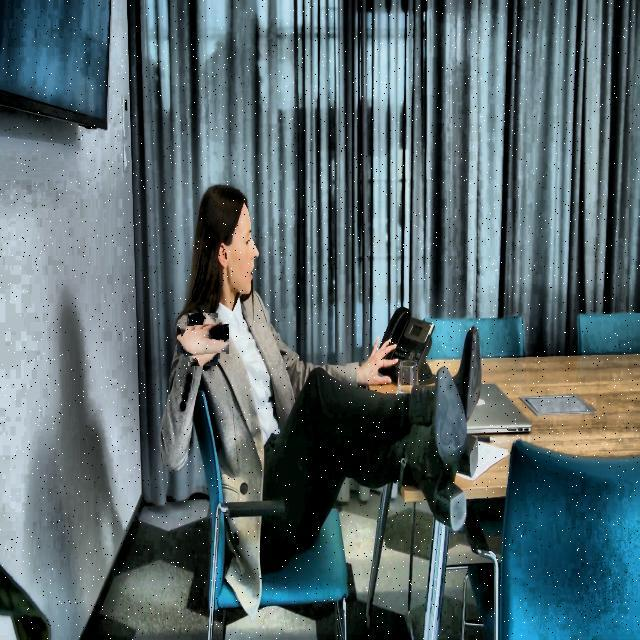Phone: (181, 318, 225, 361)
